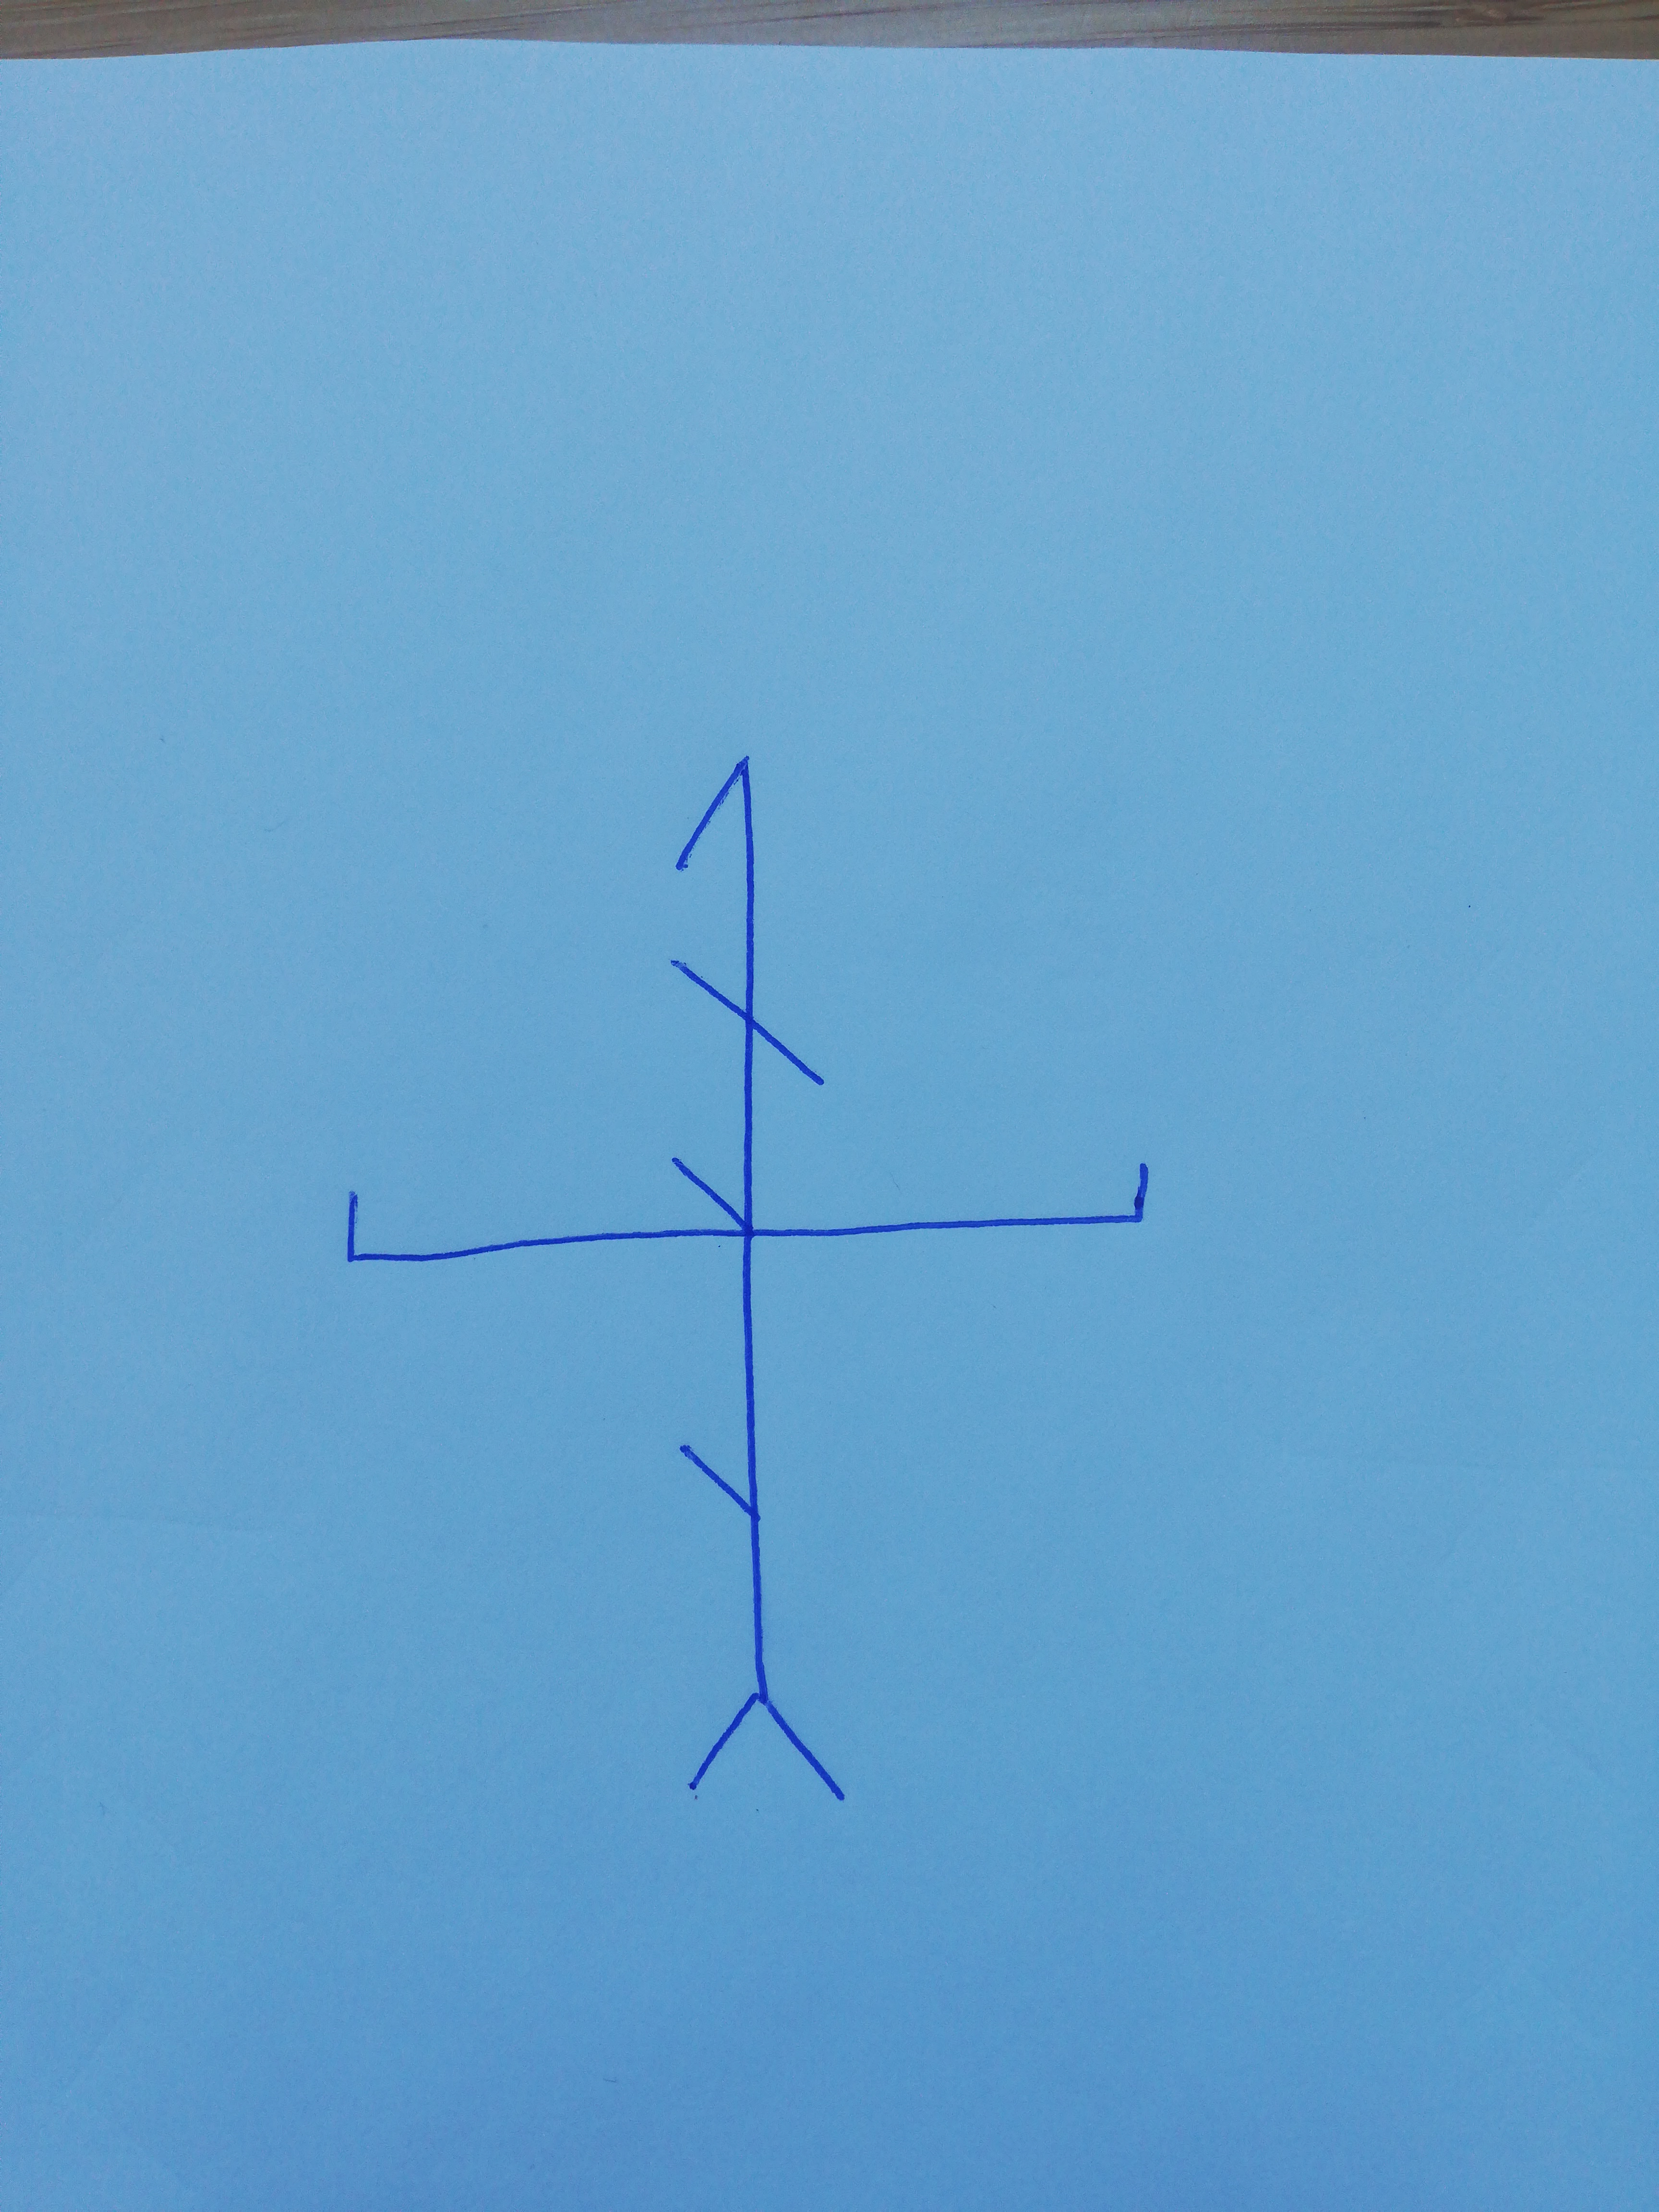Bar: (667, 756, 850, 1806)
Barcode: (347, 754, 1150, 1806)
End: (758, 1158, 1148, 1244)
Start: (345, 1193, 701, 1264)
